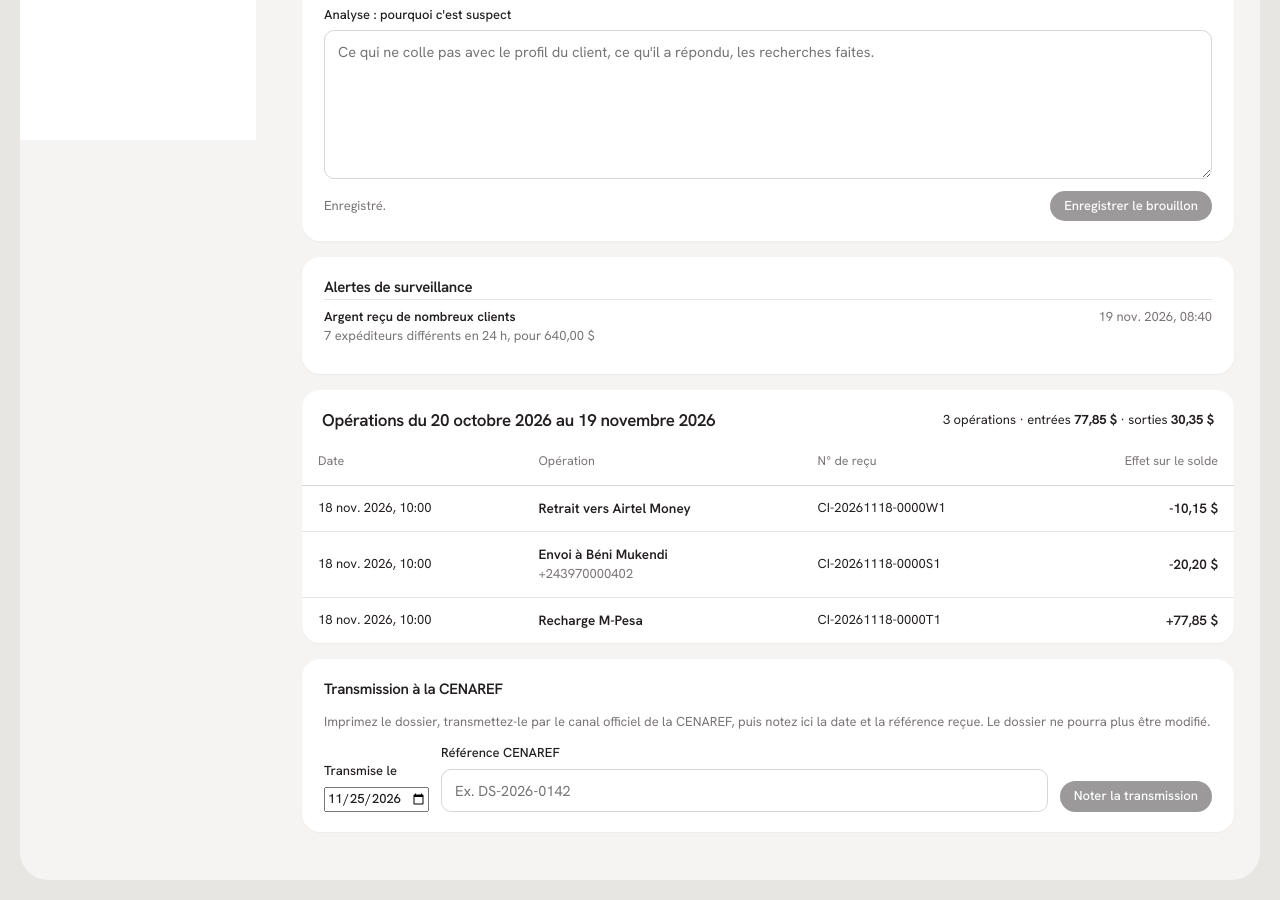
Test: surveillance › la conformité rédige une déclaration de soupçon depuis une alerte, puis note sa transmission à la CENAREF
Earlier steps of the test are not shown.
(page scrolled)
expect the text "3 opérations · entrées 77,85 $ · sorties 30,35 $" is shown: met, box [943,411,1214,430]
In the field labelled "Référence CENAREF": (744, 790) [441,769,1048,812], type "DS-2026-0142"
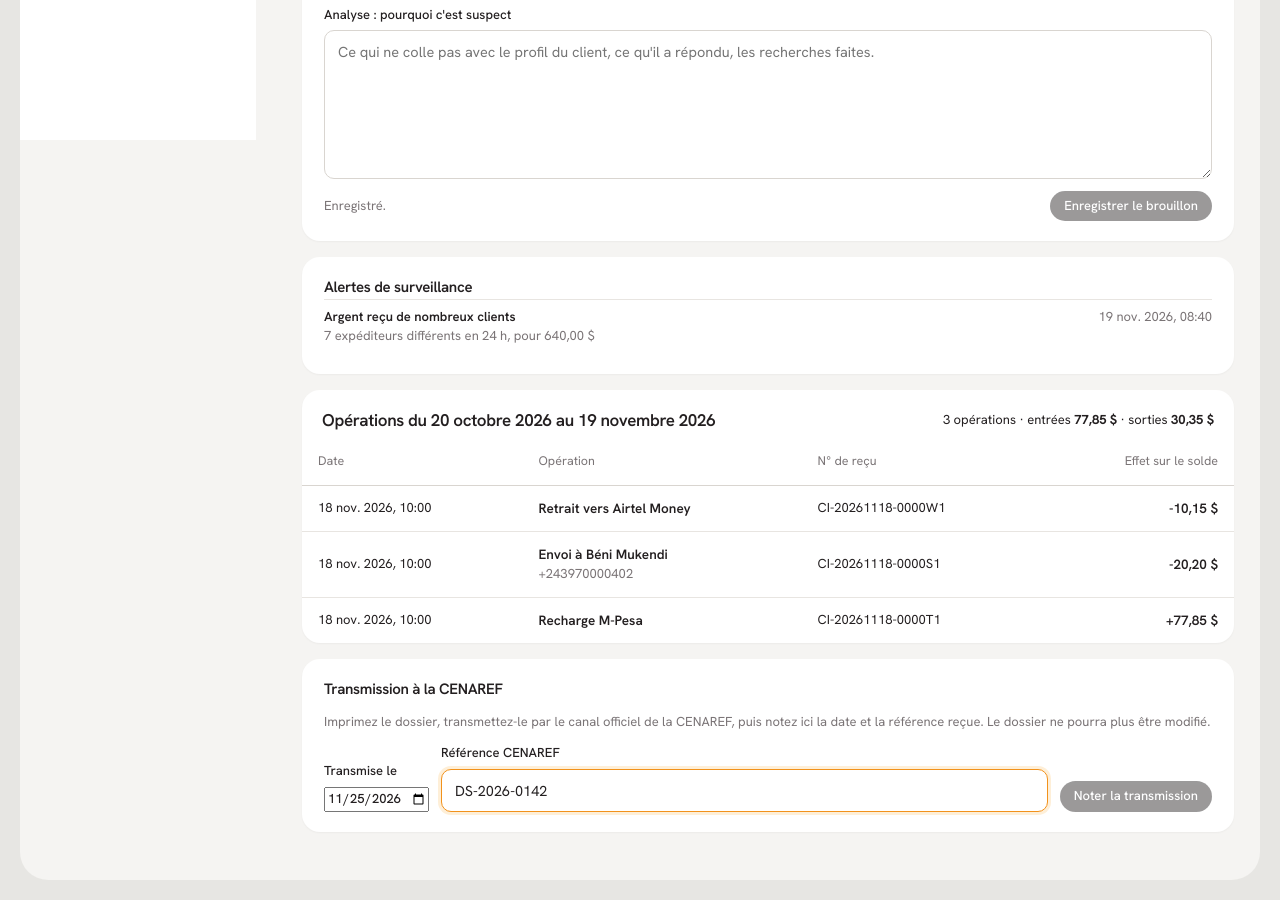
expect the button "Noter la transmission" is disabled: met, box [1060,781,1212,812]
In the text box labelled "Analyse : pourquoi c'est suspect": (768, 105) [324,30,1212,179], type "Revenus déclarés sans rapport avec la collecte"
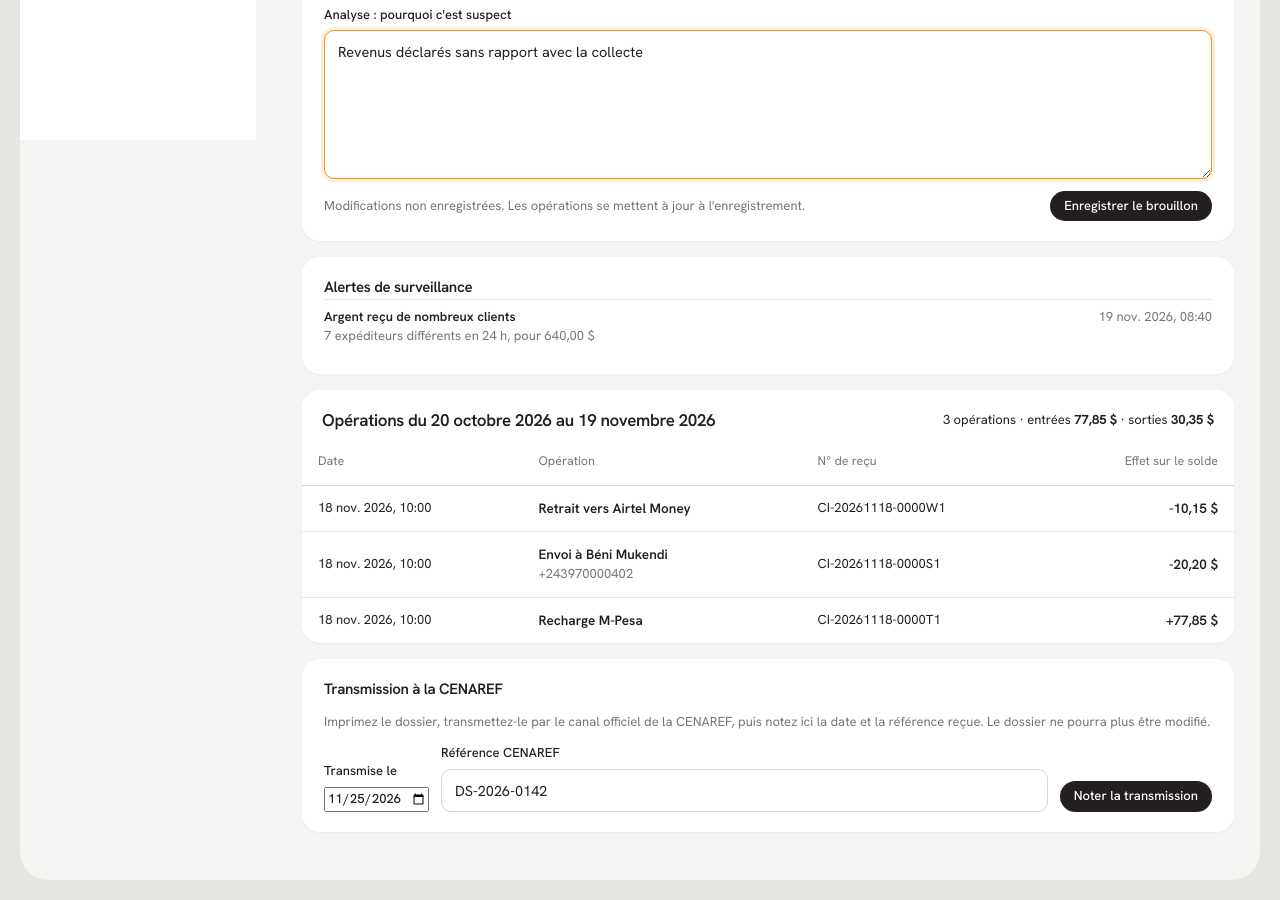
Click the button "Enregistrer le brouillon": (1131, 206) [1050,190,1212,221]
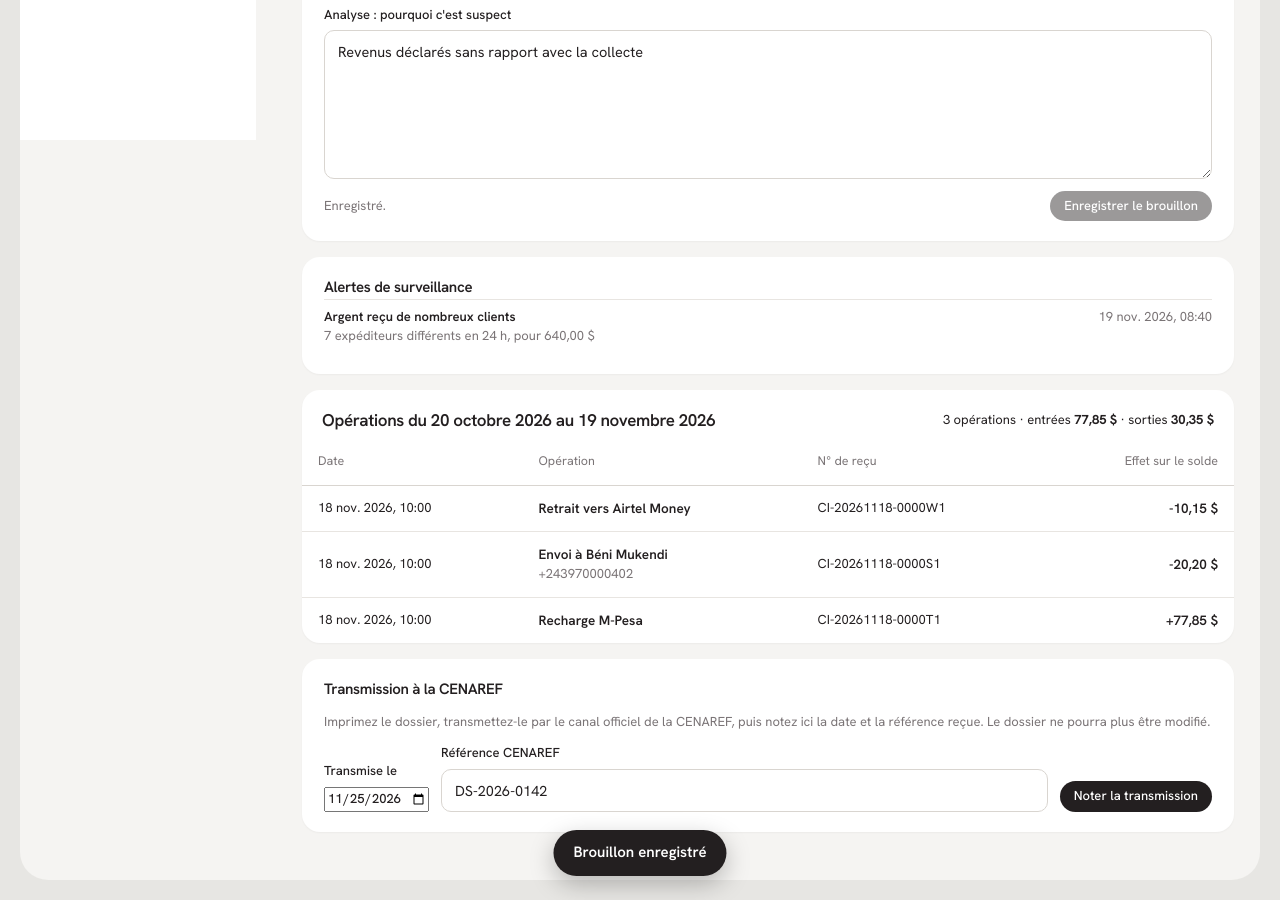
expect the message reads "Brouillon enregistré": met, box [574,842,707,862]
Click the button "Noter la transmission": (1136, 796) [1060,781,1212,812]
(page scrolled)
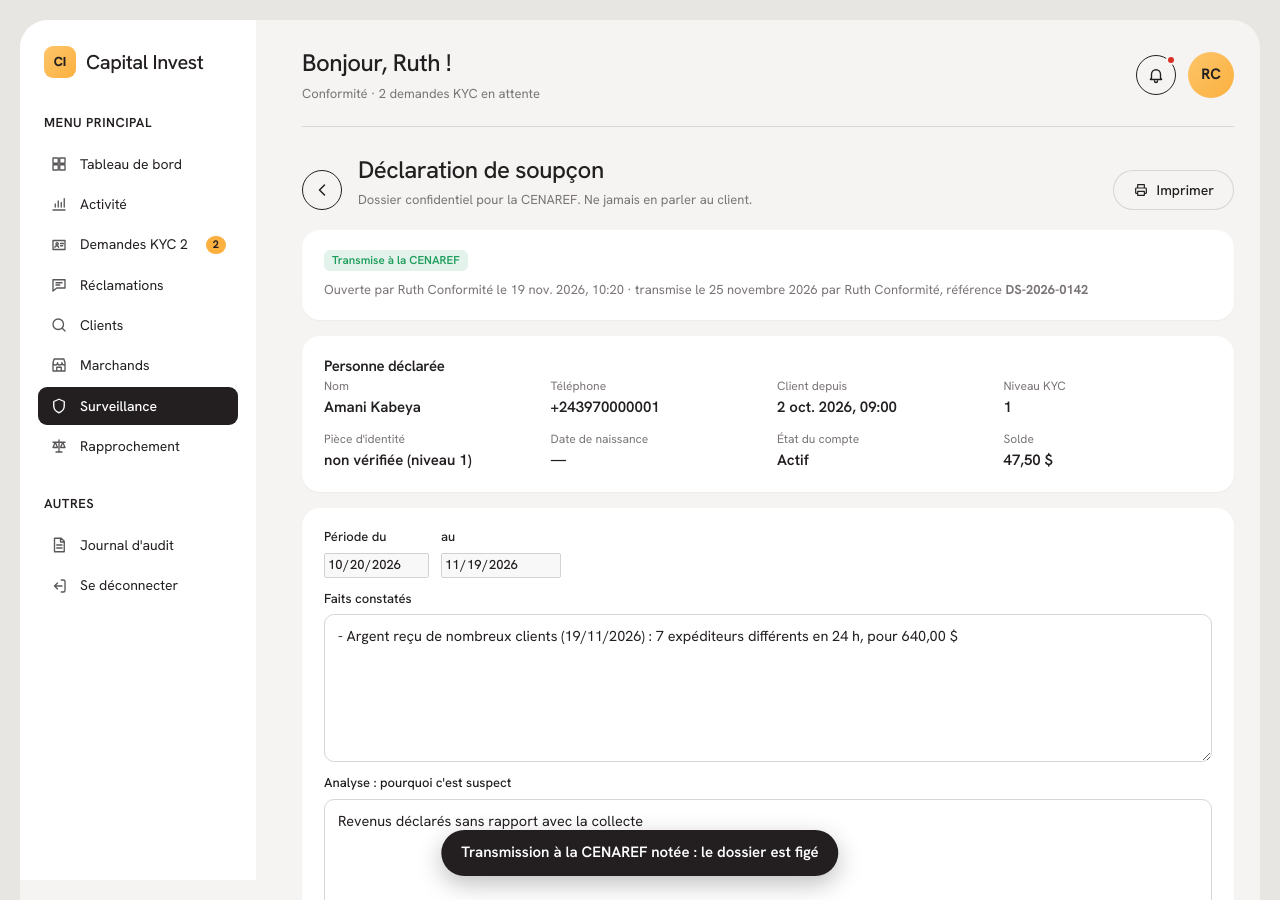
expect the text "Transmise à la CENAREF" is shown: met, box [324,250,468,271]
expect the text "DS-2026-0142" is shown: met, box [1005,281,1088,298]
expect the button "Noter la transmission" is gone: met
Click the button named "Retour": (322, 190) [302,170,342,210]
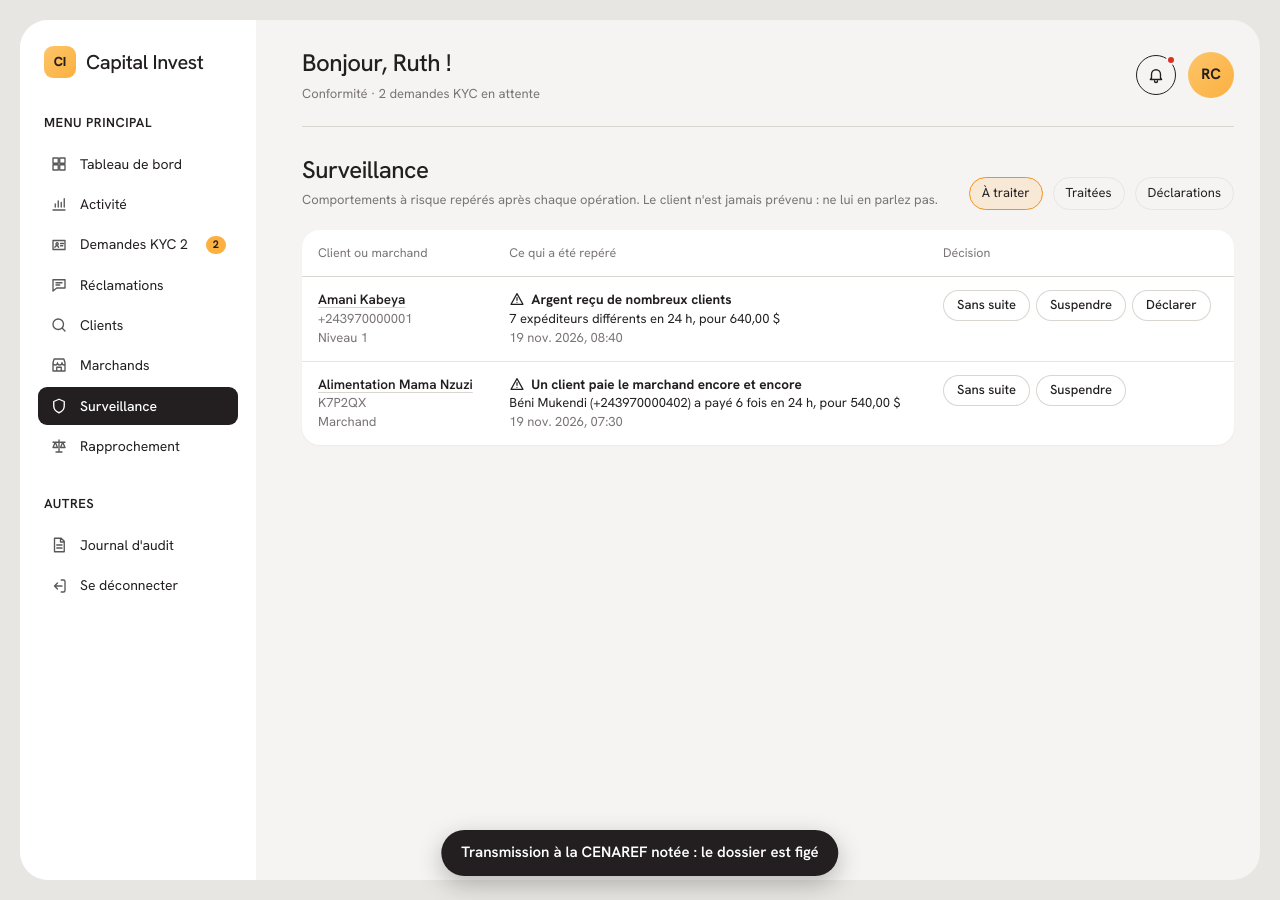
Click the button "Déclarations": (1184, 194) [1135,177,1234,210]
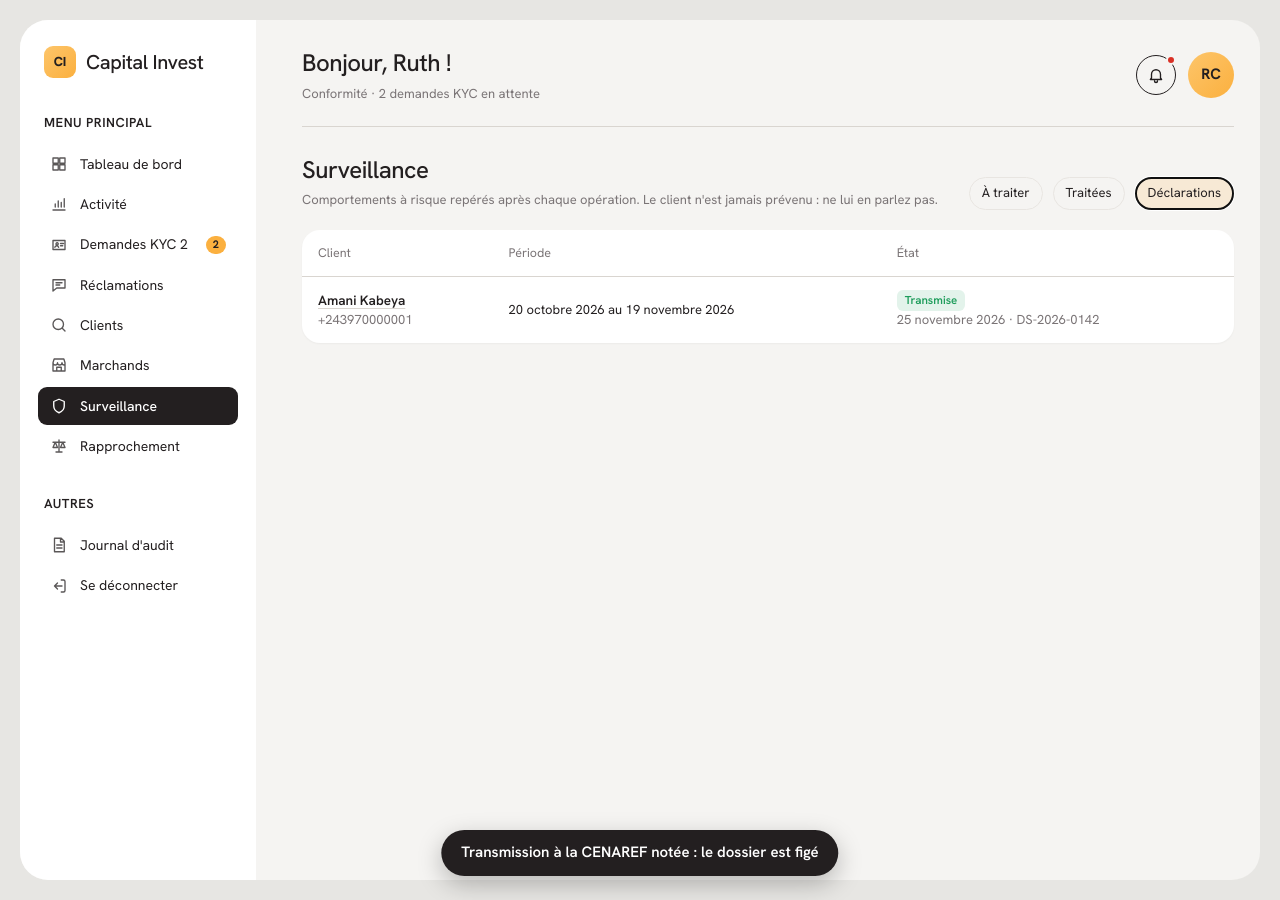
expect the text "Transmise" is shown: met, box [897,290,965,311]
expect the text "25 novembre 2026 · DS-2026-0142" is shown: met, box [897,311,1099,328]
